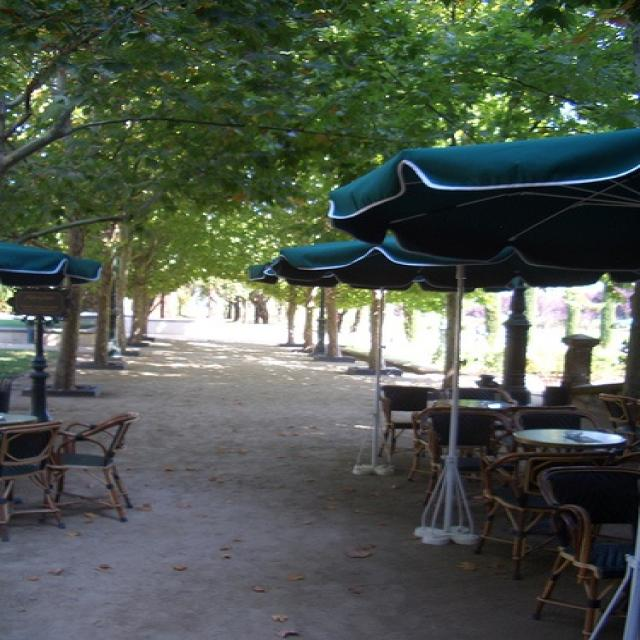chair: (535, 463, 639, 635), (477, 449, 600, 586), (40, 409, 148, 527), (409, 402, 506, 505), (1, 418, 74, 536), (370, 381, 435, 468), (510, 404, 600, 443), (599, 390, 640, 435), (445, 382, 516, 407)
diningtable: (508, 423, 636, 462)
